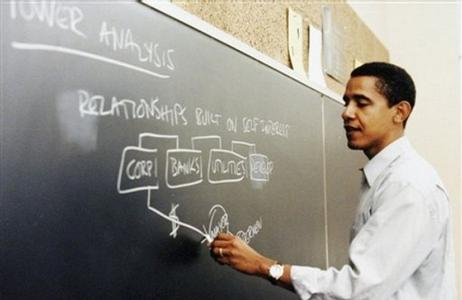person: (215, 62, 458, 299)
